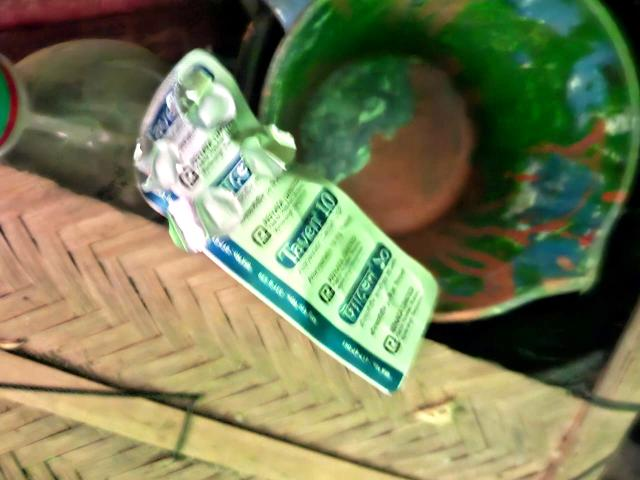medicine: (99, 39, 497, 426)
